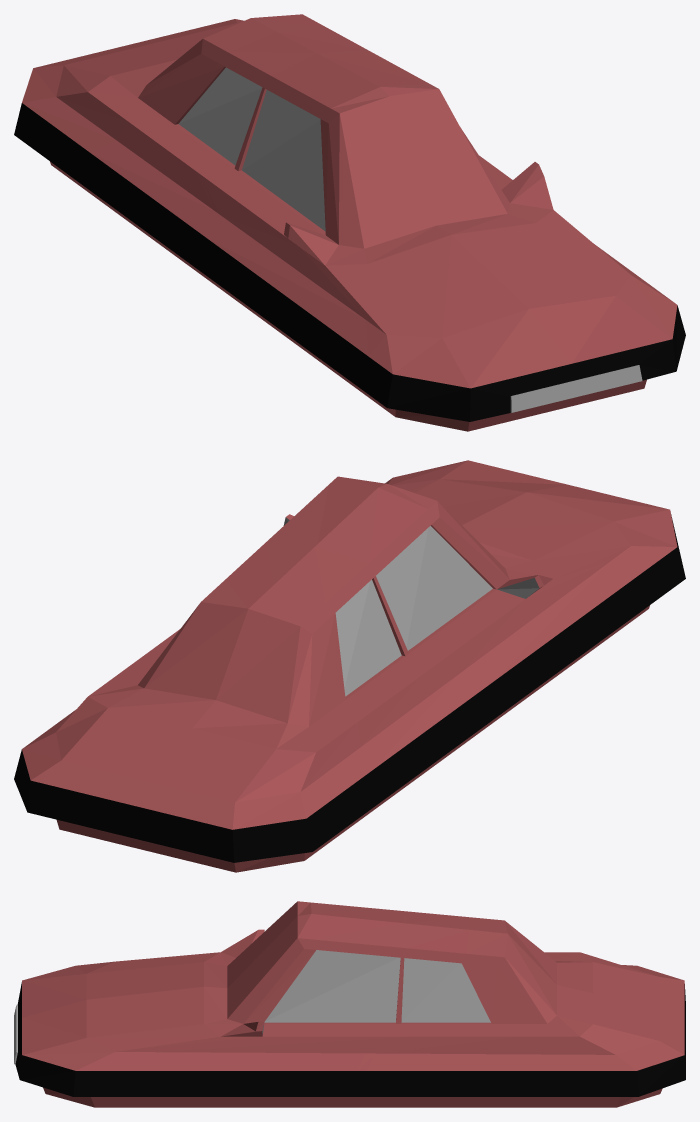
Rendered from Car.obj.
3 renders of one model, top to bottom at view 1: azimuth 30°, elevation 25°; view 2: azimuth 150°, elevation 25°; view 3: azimuth 270°, elevation 25°, orthographic. The views are drawn at different scales.
Parts seen in each view (by area): view 1: Car_Cube.001_Material, Car_Cube.001_Material.002, Car_Cube.001_Material.001, Car_Cube.001_Material.003; view 2: Car_Cube.001_Material, Car_Cube.001_Material.002, Car_Cube.001_Material.001; view 3: Car_Cube.001_Material, Car_Cube.001_Material.002, Car_Cube.001_Material.001.
Part boxes in pixels (x1=…): Car_Cube.001_Material: x1=22, y1=14, x2=677, y2=431; Car_Cube.001_Material.002: x1=14, y1=103, x2=685, y2=421; Car_Cube.001_Material.001: x1=178, y1=67, x2=325, y2=231; Car_Cube.001_Material.003: x1=510, y1=365, x2=642, y2=412; Car_Cube.001_Material: x1=22, y1=460, x2=677, y2=872; Car_Cube.001_Material.002: x1=14, y1=514, x2=685, y2=862; Car_Cube.001_Material.001: x1=283, y1=517, x2=539, y2=696; Car_Cube.001_Material: x1=22, y1=901, x2=684, y2=1107; Car_Cube.001_Material.002: x1=15, y1=982, x2=685, y2=1096; Car_Cube.001_Material.001: x1=262, y1=950, x2=490, y2=1034.
Size of the model in its own units: 5.97 by 3.72 by 15.36.
